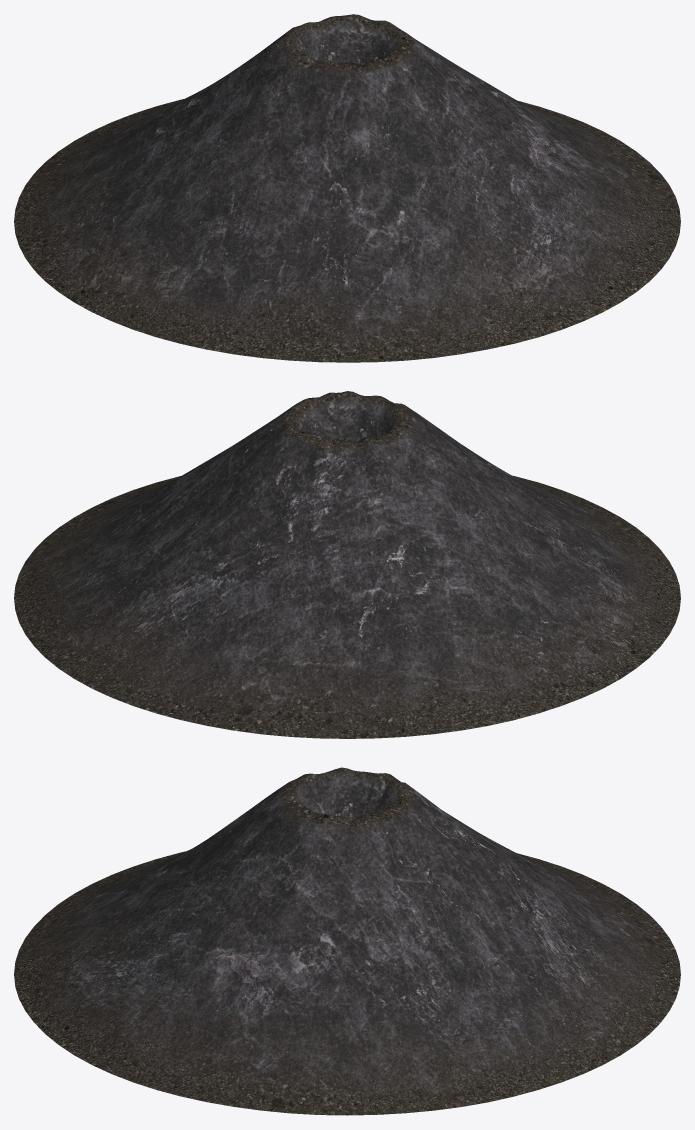
File: crater_cone.glb
3 views of the same model, one above another, from view 1: azimuth 30°, elevation 25°; view 2: azimuth 150°, elevation 25°; view 3: azimuth 270°, elevation 25° (orthographic).
Visible parts, largest first — view 1: crater_cone; view 2: crater_cone; view 3: crater_cone.
Part boxes in pixels (x1=…): crater_cone: x1=14, y1=14, x2=680, y2=362; crater_cone: x1=14, y1=391, x2=680, y2=738; crater_cone: x1=14, y1=767, x2=680, y2=1115.
Bounding box in the file's own units: 900 × 273 × 900.
1 material, 1 textured.
